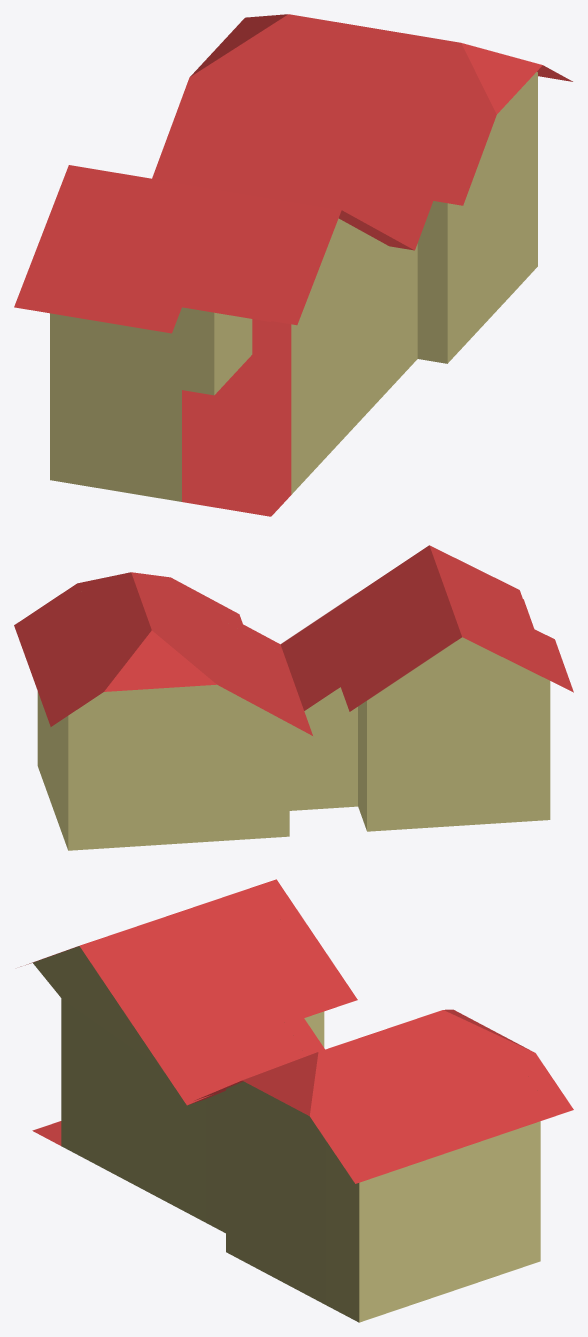
3 renders of one model, top to bottom at view 1: azimuth 30°, elevation 25°; view 2: azimuth 150°, elevation 25°; view 3: azimuth 270°, elevation 25°, orthographic. The views are drawn at different scales.
Size of the model in its own units: 27.23 by 23.5 by 10.58.
